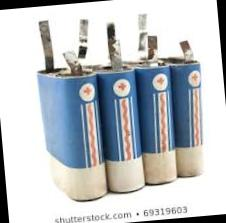battery: (13, 26, 112, 212), (76, 26, 152, 203)
